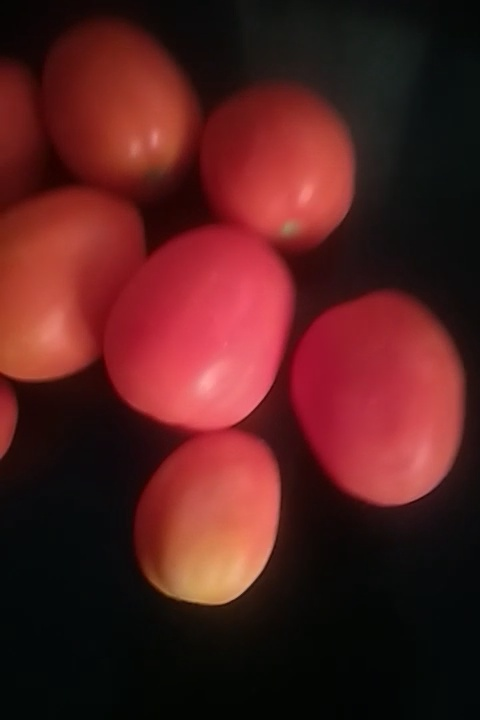tomato: (289, 289, 463, 509), (112, 213, 292, 425), (30, 7, 202, 201), (130, 419, 286, 606), (1, 188, 144, 391), (210, 96, 362, 255), (1, 48, 49, 206)
